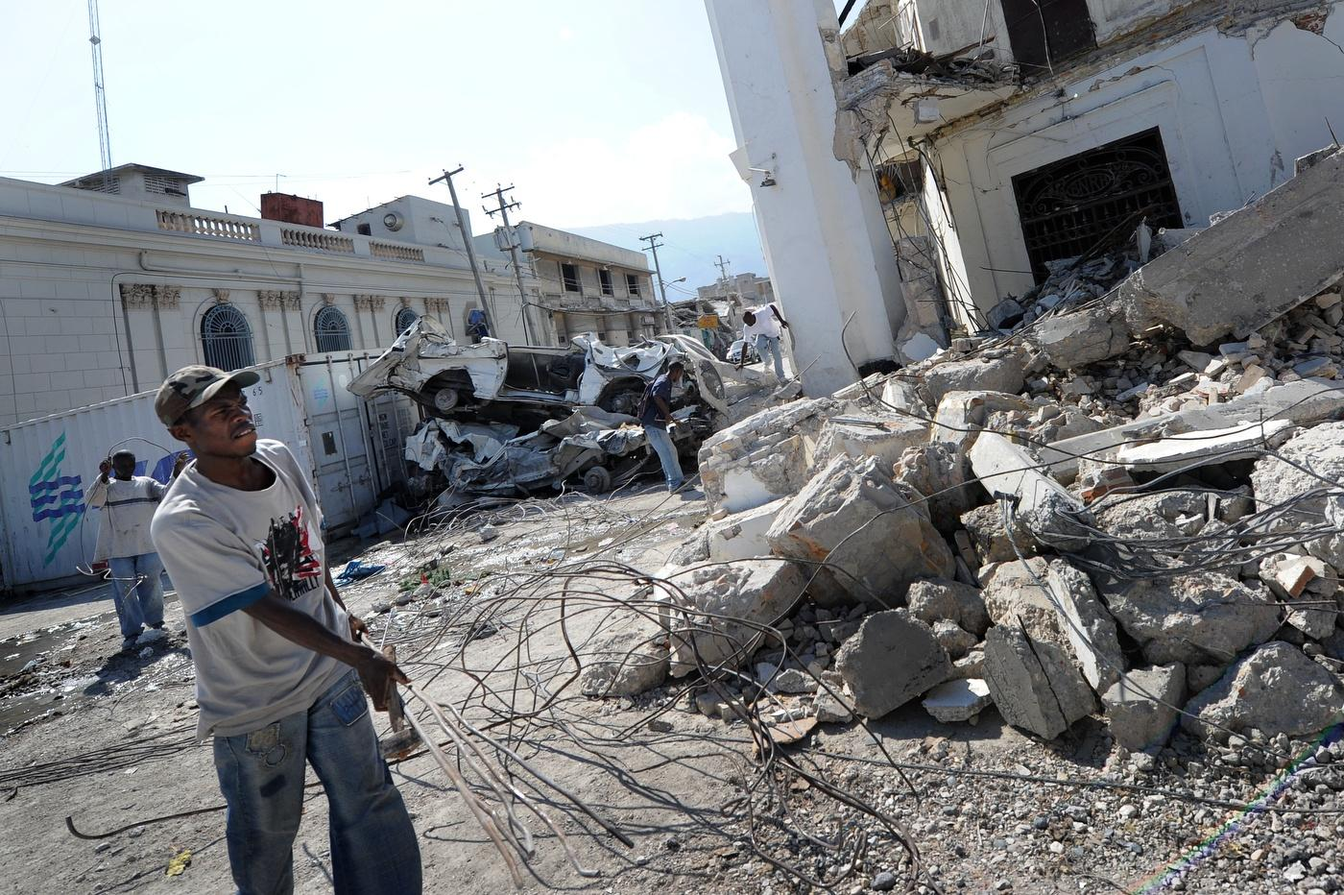victim: (140, 361, 434, 892), (82, 445, 187, 653), (636, 363, 698, 490)
